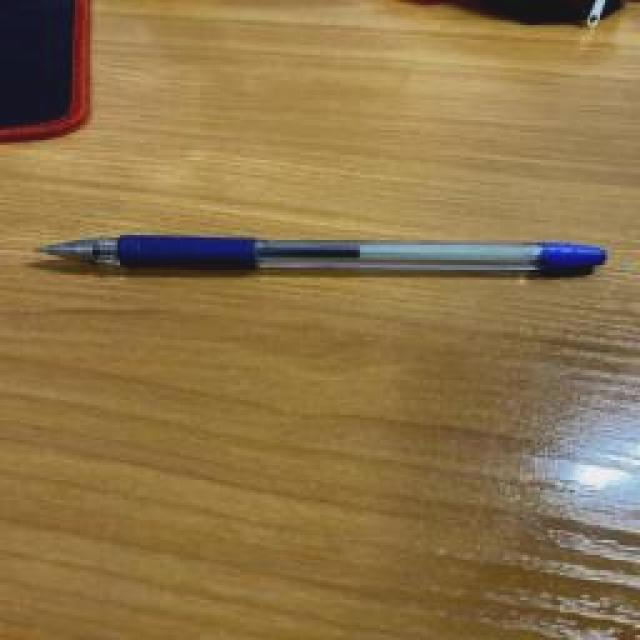Pen - Non Recyclable: (35, 235, 610, 273)
